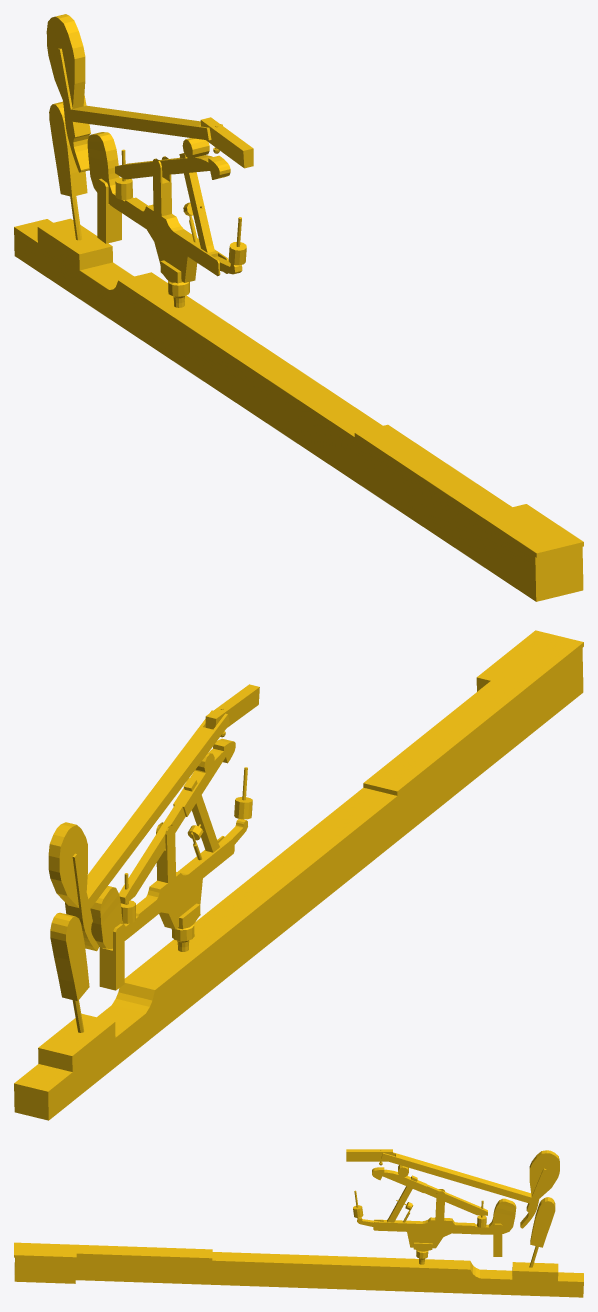
Rendered from gptest.obj.
3 renders of one model, top to bottom at view 1: azimuth 30°, elevation 25°; view 2: azimuth 150°, elevation 25°; view 3: azimuth 270°, elevation 25°, orthographic. The views are drawn at different scales.
Visible parts, largest first — view 1: white_keys.001_Cube.123; view 2: white_keys.001_Cube.123; view 3: white_keys.001_Cube.123.
Boxes of the visible parts, x1,y1,x2,y2 form: white_keys.001_Cube.123: (14,14,583,601); white_keys.001_Cube.123: (14,630,583,1120); white_keys.001_Cube.123: (14,1149,583,1297).
Bounding box in the file's own units: 3.08 × 16.35 × 59.12.
